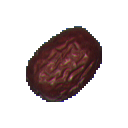gd: (14, 13, 125, 128)
